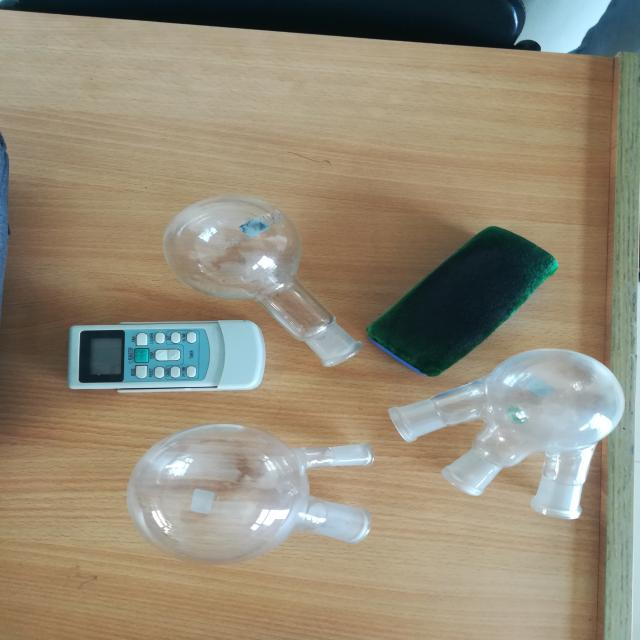Round_Bottom_Flask_Borosilicate_Glass_1_Neck: (153, 173, 385, 385)
Round_Bottom_Flask_Borosilicate_Glass_2_Neck: (108, 414, 397, 576)
Round_Bottom_Flask_Borosilicate_Glass_3_Neck: (389, 337, 640, 530)
